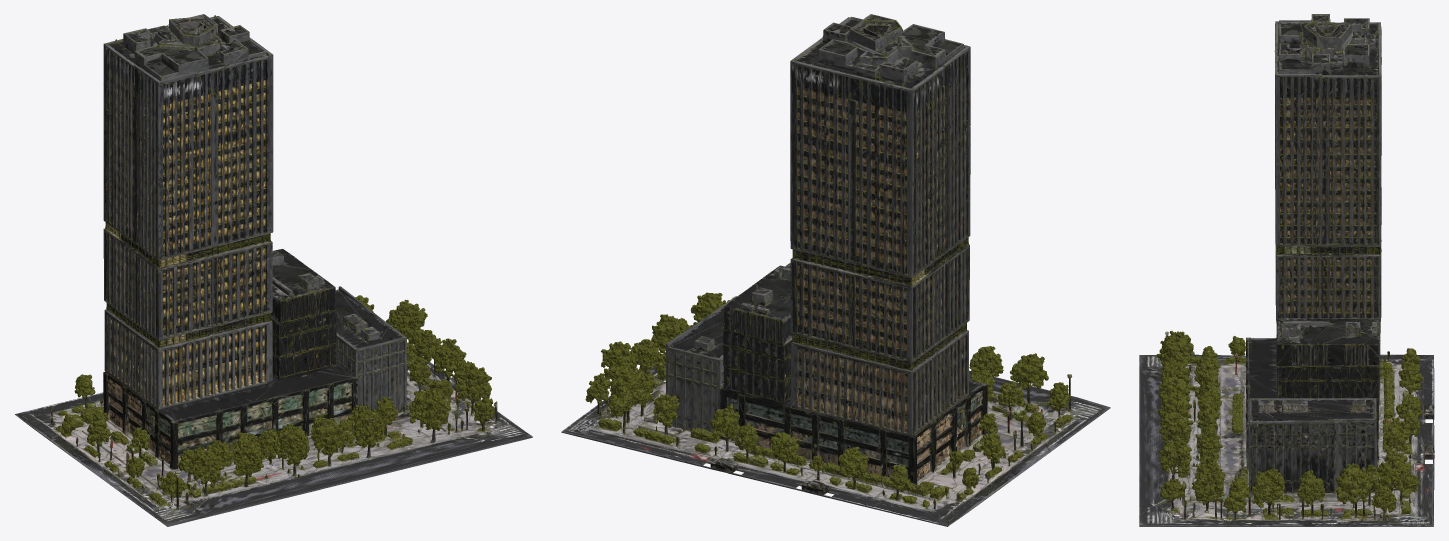
File: model-rokaus.glb
3 views of the same model, side by side, from view 1: azimuth 30°, elevation 25°; view 2: azimuth 150°, elevation 25°; view 3: azimuth 270°, elevation 25° (orthographic). The views are drawn at different scales.
Size of the model in its own units: 1.84 by 1.9 by 1.32.
1 material, 1 textured.
